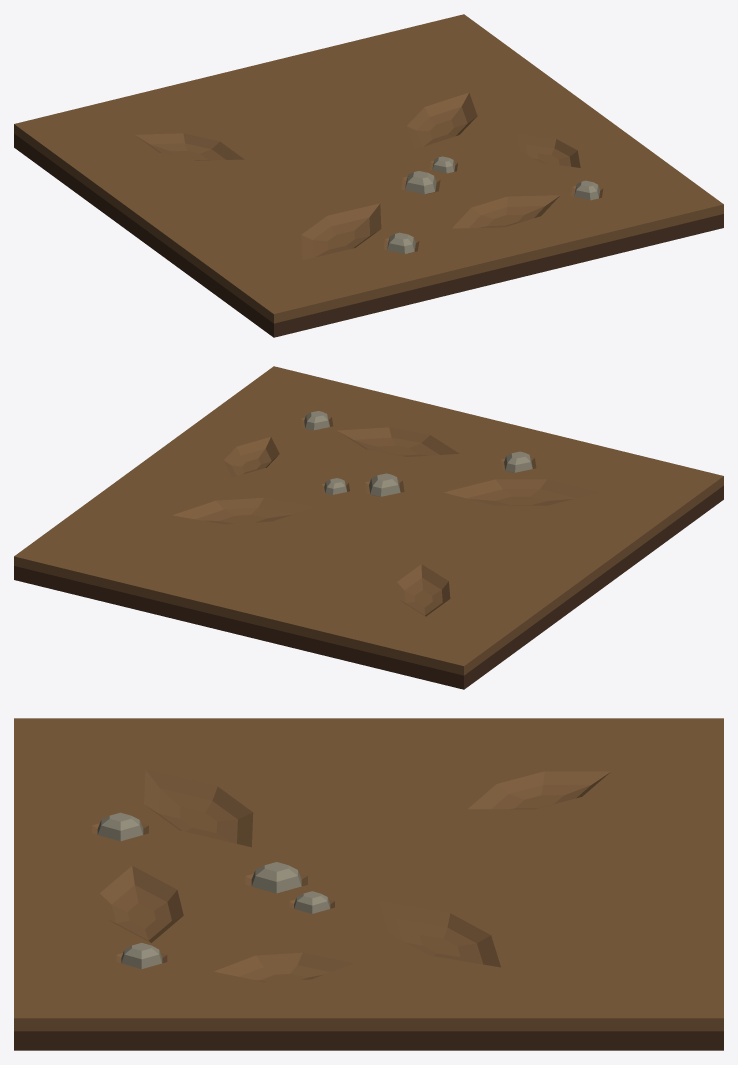
File: dirt-tile-6f4470.glb
The picture shows the model from 3 angles, top to bottom: view 1: azimuth 30°, elevation 25°; view 2: azimuth 150°, elevation 25°; view 3: azimuth 270°, elevation 25°; orthographic projection. The views are drawn at different scales.
Visible parts, largest first — view 1: tile; view 2: tile; view 3: tile.
Boxes of the visible parts, x1=… form: tile: x1=14, y1=14, x2=723, y2=337; tile: x1=14, y1=366, x2=723, y2=689; tile: x1=14, y1=718, x2=723, y2=1050.
Size of the model in its own units: 1 by 0.071 by 1.
